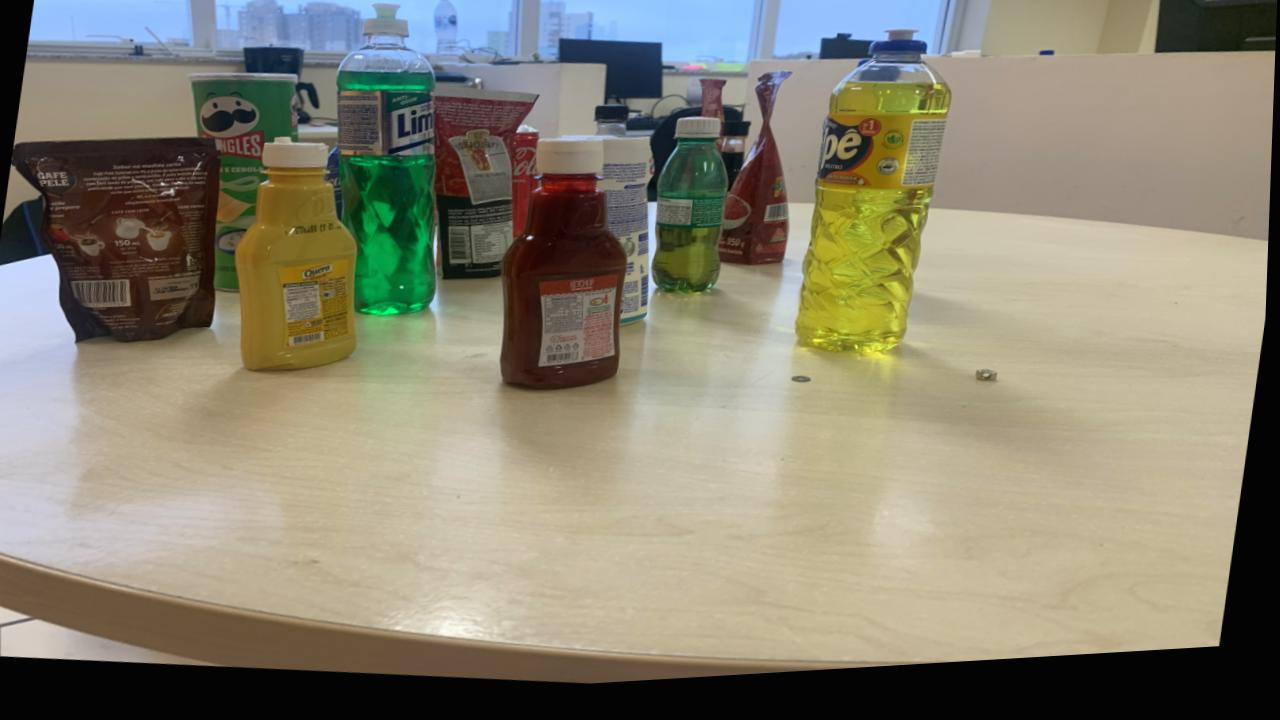Cleaner-Cleanup_Items: (600, 144, 655, 332)
Coffee-Pantry_Items: (12, 139, 222, 343)
Coke-Drinks: (512, 131, 541, 242)
Detergent-Cleanup_Items: (798, 40, 952, 363), (337, 8, 439, 320)
Guarana-Drinks: (654, 124, 731, 302)
Ketchup-Pantry_Items: (502, 142, 630, 396)
Mustard-Pantry_Items: (237, 140, 360, 374)
Pringles-Snacks: (190, 75, 298, 294)
Soda-Drinks: (595, 111, 630, 145)
Tomato_Sauce-Pantry_Items: (435, 91, 540, 285), (720, 80, 792, 274)
